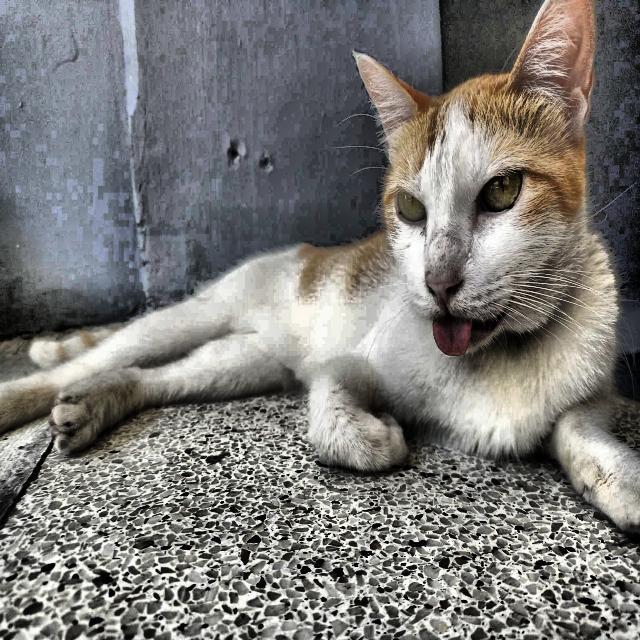Healthy skin: (446, 249, 592, 427), (269, 250, 382, 374)
